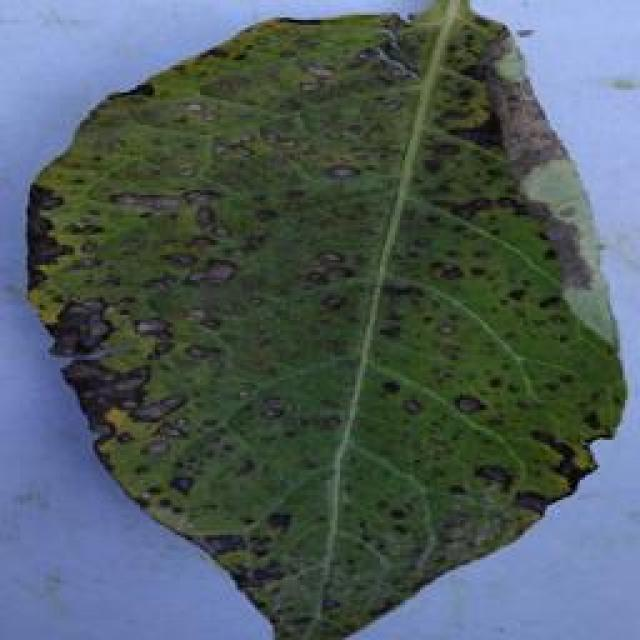Potato_Early_Blight: (20, 18, 634, 630)
